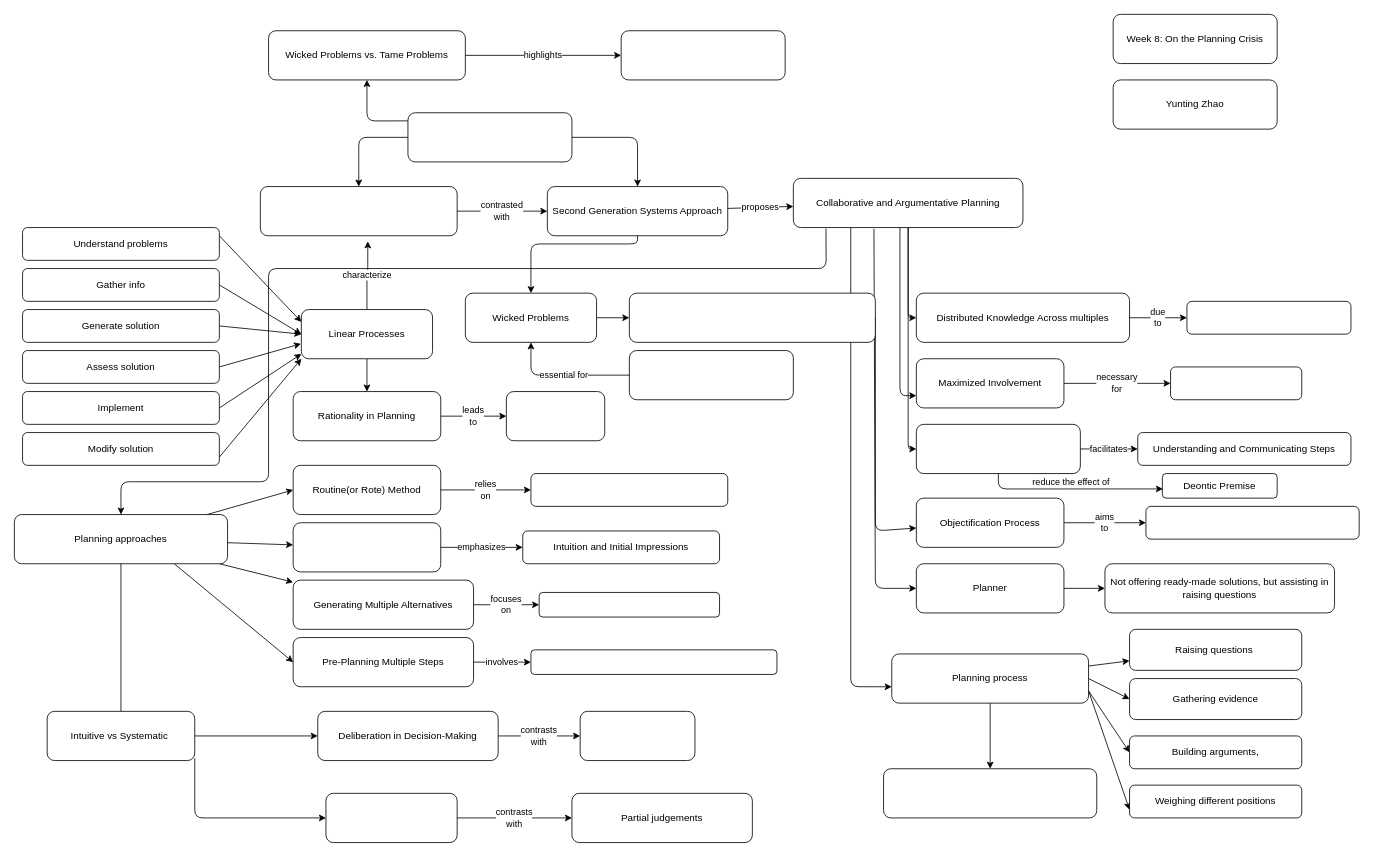
Some shapes in this 1374 by 857 pixel diagram are drawn without their labels. Here are the shapes that lost their labels. From the top down, the box of each, then its label:
(620, 30, 785, 80): Complexity and Uncertainty
(407, 112, 572, 162): System Approaches
(260, 186, 457, 236): First Generation
(629, 292, 875, 342): Characterized as Not True or False, but Better or Worse
(1186, 301, 1351, 334): Symmetry of Ignorance
(629, 350, 793, 400): Stakeholder Involvement
(1170, 366, 1302, 400): Effective Planning
(506, 391, 605, 441): Paradoxes
(916, 424, 1080, 474): Transparency in Planning
(530, 473, 728, 506): Established Methods and Past Experiences
(1145, 506, 1359, 539): Clarify and Communicate Judgement Basis
(292, 522, 441, 572): First-Best Idea Approach
(538, 592, 720, 617): Evaluating Multiple Options
(530, 649, 777, 674): Think several moves ahead
(579, 711, 695, 761): Pure Intuition
(883, 768, 1097, 818): Involves Continuous Learning and Adaptation
(325, 793, 457, 843): Overall judgements
